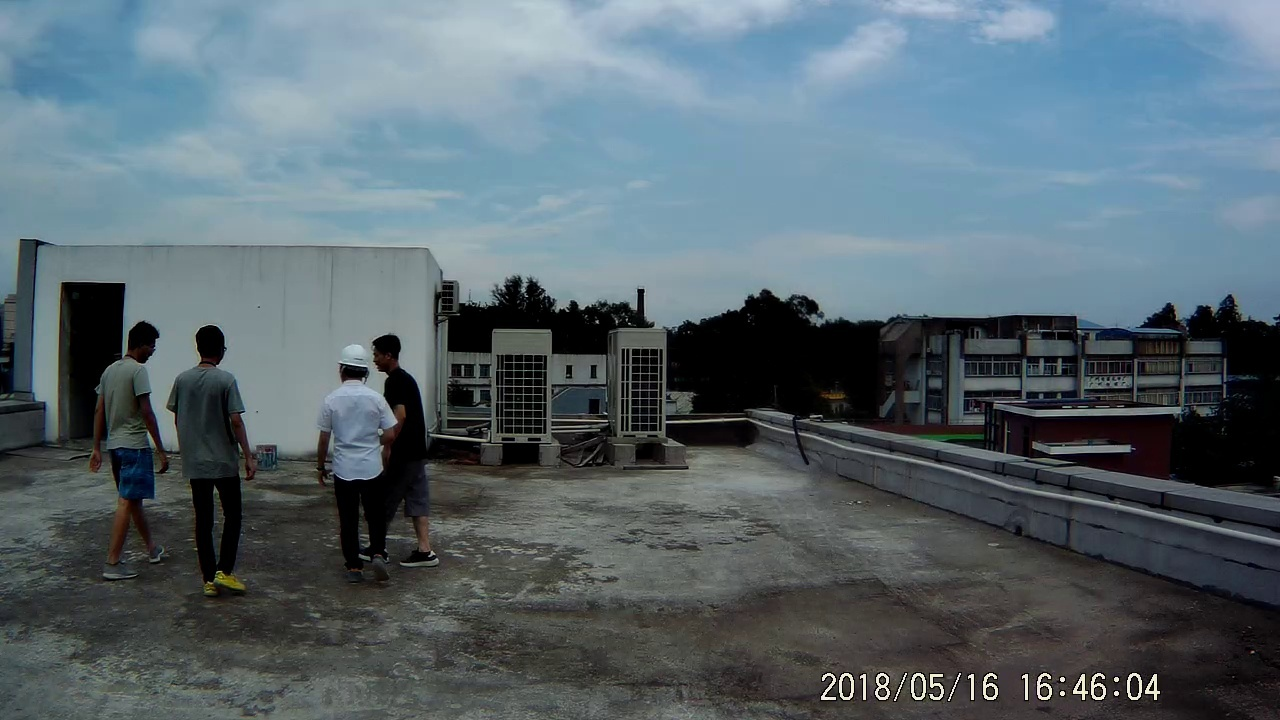none: (188, 321, 231, 373), (119, 317, 160, 369), (366, 331, 406, 379)
white: (331, 339, 373, 386)
